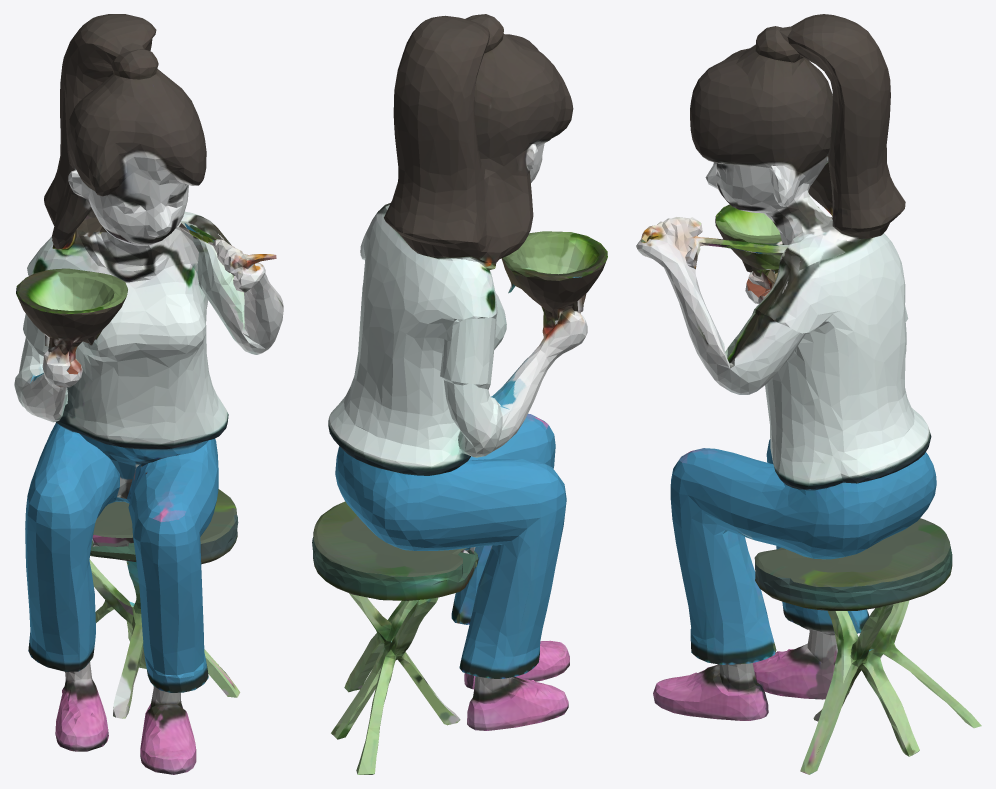
The model's file is person8.glb.
3 renders of one model, left to right at view 1: azimuth 30°, elevation 25°; view 2: azimuth 150°, elevation 25°; view 3: azimuth 270°, elevation 25°, orthographic.
Visible parts, largest first — view 1: geometry_0; view 2: geometry_0; view 3: geometry_0.
Part boxes in pixels (x1=…): geometry_0: x1=14, y1=14, x2=283, y2=774; geometry_0: x1=312, y1=14, x2=607, y2=774; geometry_0: x1=636, y1=14, x2=981, y2=774.
Size of the model in its own units: 0.3575 by 1 by 0.4503.
1 material, 1 textured.
